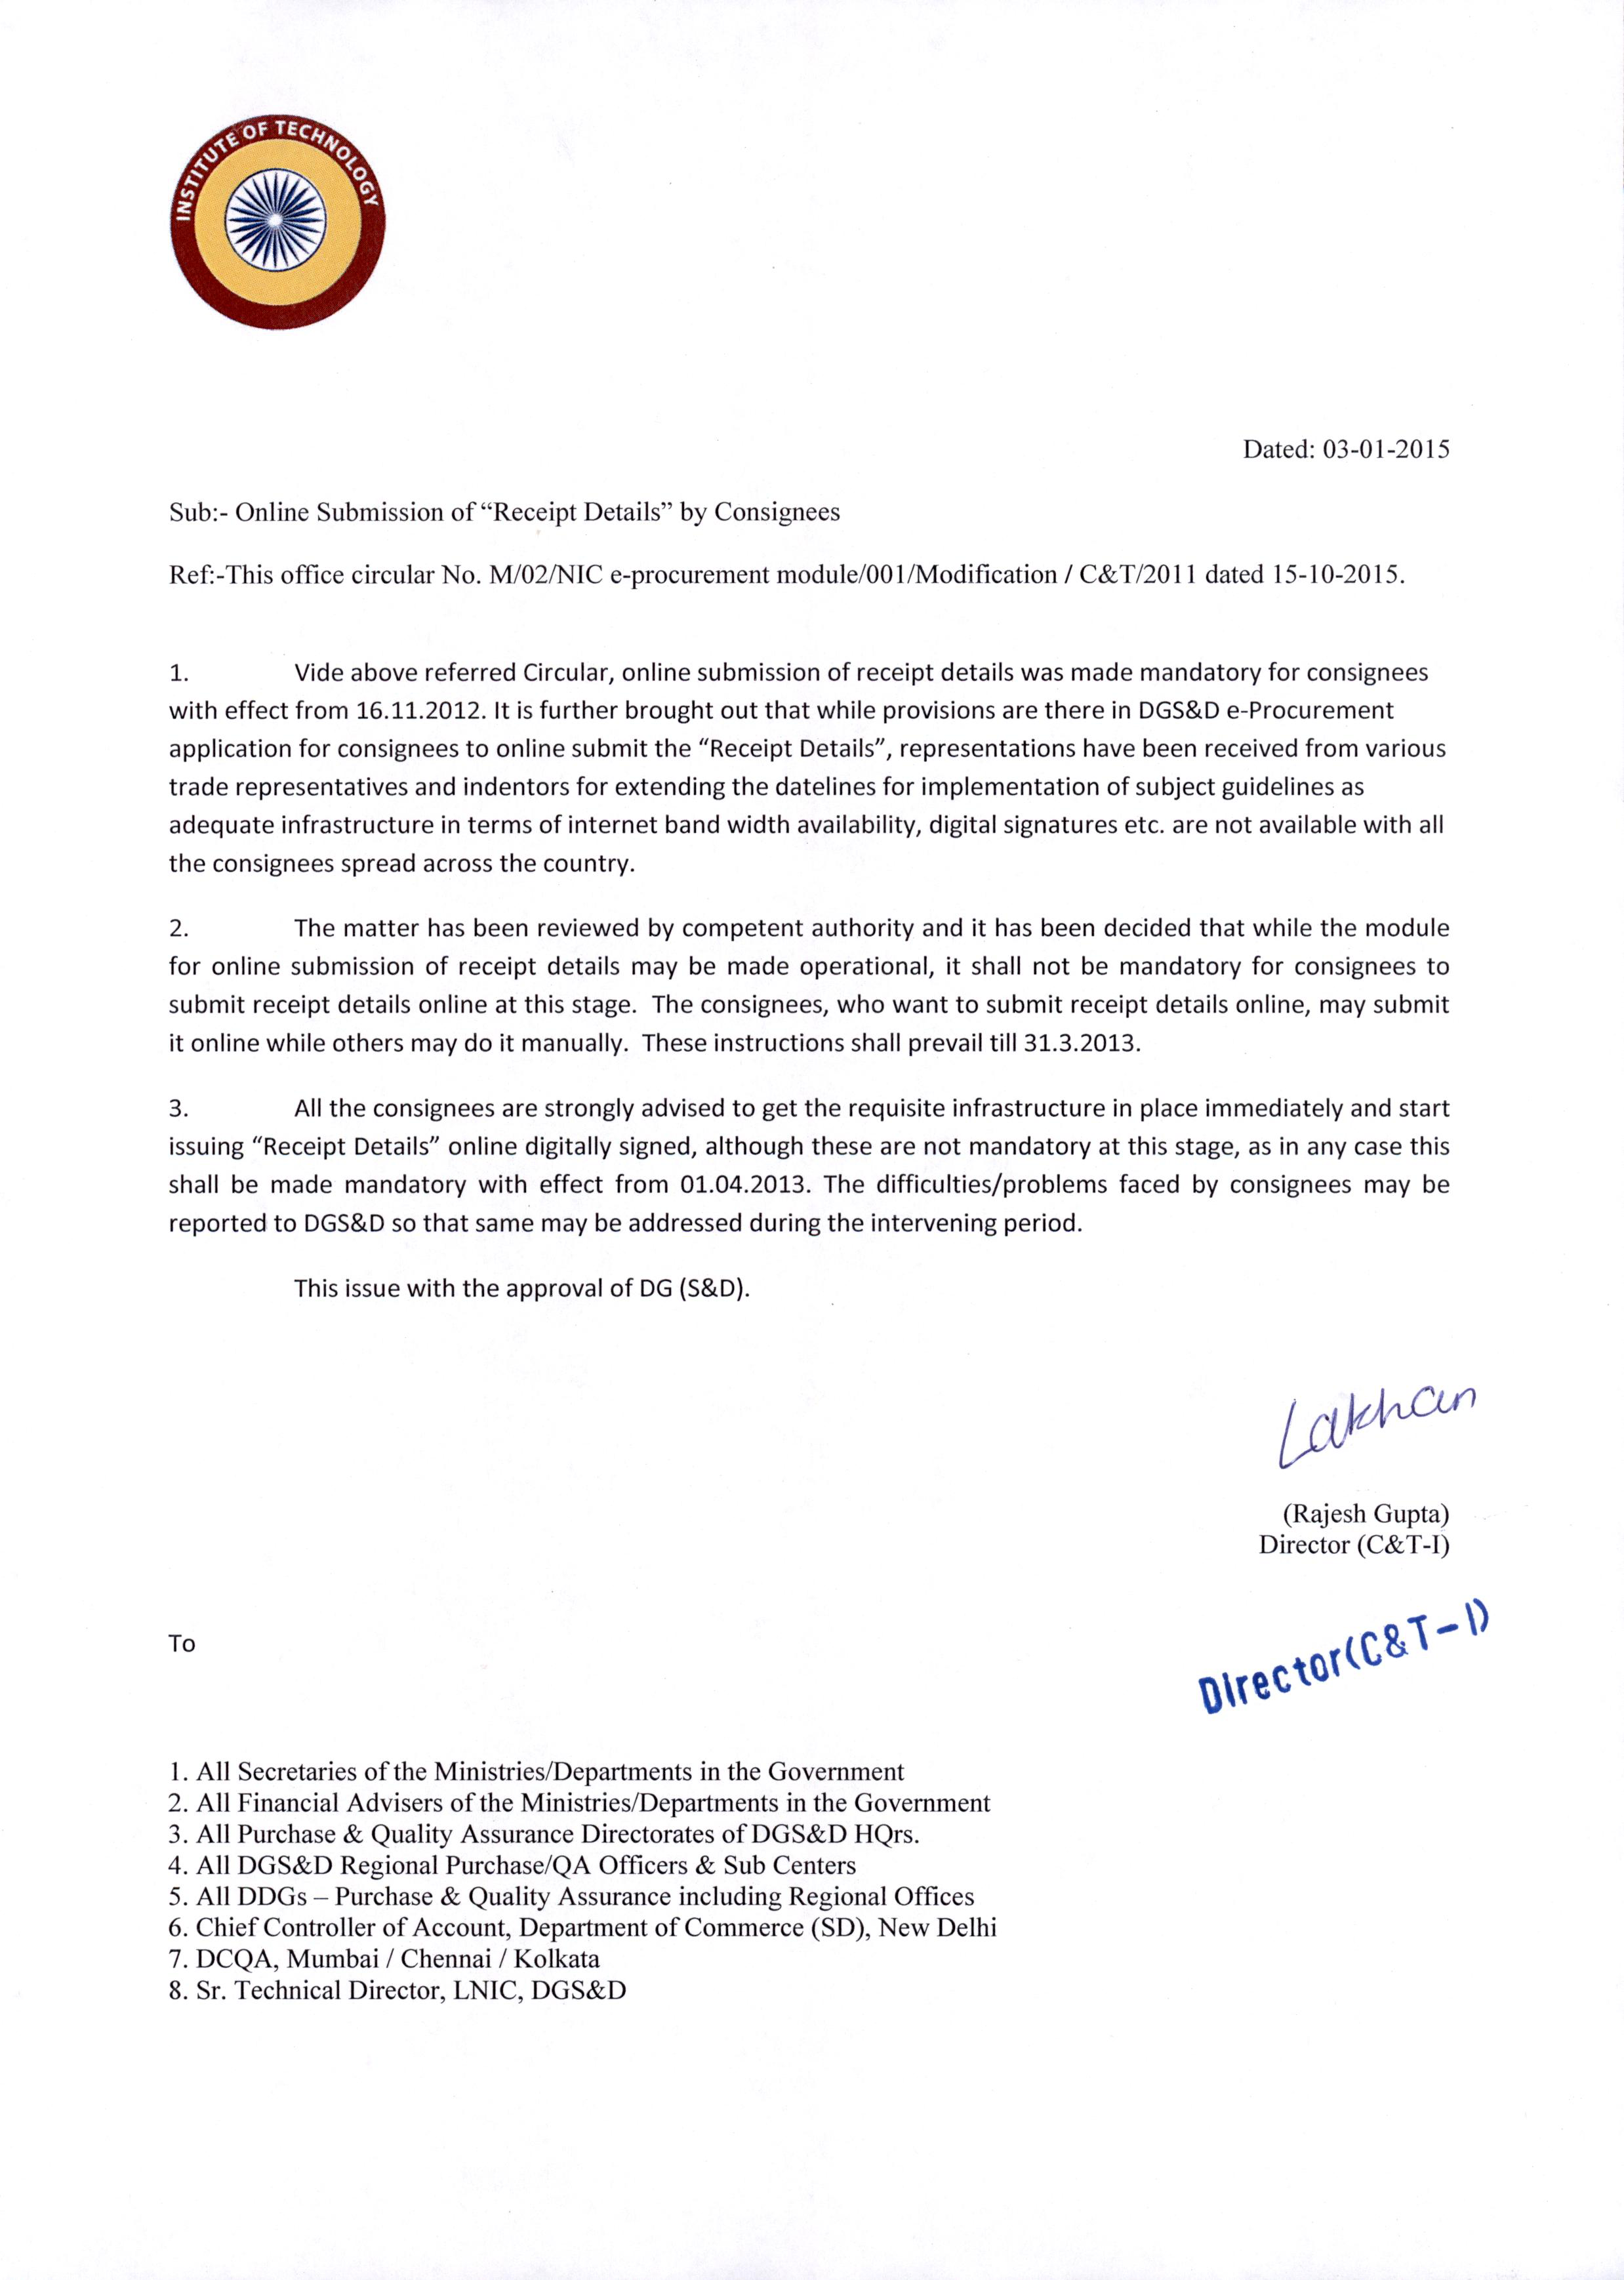Signature: (1265, 1373, 1483, 1478)
